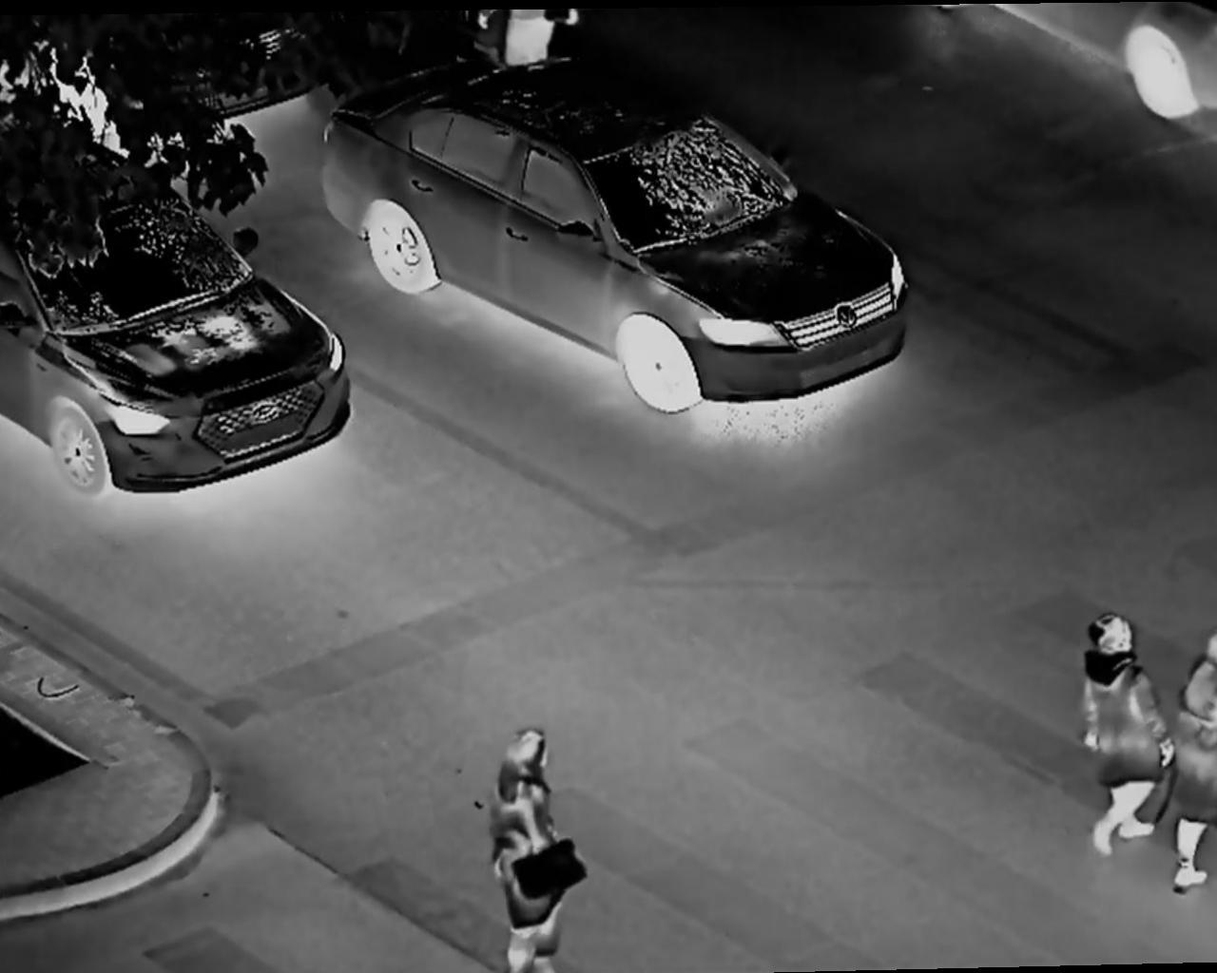person: (490, 725, 604, 969), (1079, 607, 1174, 855), (1172, 634, 1215, 901)
